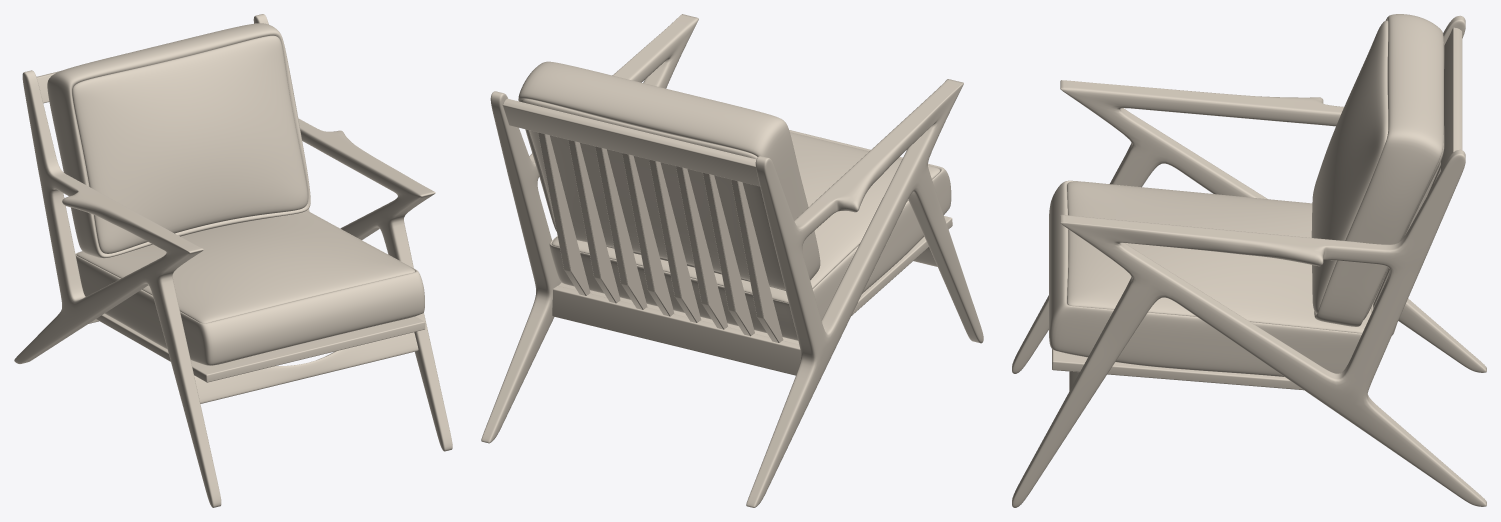
Rendered from chair1_lightbrown.glb.
3 renders of one model, left to right at view 1: azimuth 30°, elevation 25°; view 2: azimuth 150°, elevation 25°; view 3: azimuth 270°, elevation 25°, orthographic. The views are drawn at different scales.
Parts seen in each view (by area): view 1: Cushions, Legs, Support, Base; view 2: Cushions, Legs, Backside, Support, Base; view 3: Cushions, Legs, Base, Support.
Boxes of the visible parts, box(x1,y1,x2,y2) form: Cushions: box(47, 23, 424, 365); Legs: box(14, 14, 452, 507); Support: box(36, 23, 418, 403); Base: box(96, 313, 425, 382); Cushions: box(518, 61, 951, 340); Legs: box(481, 14, 983, 507); Backside: box(538, 132, 783, 342); Support: box(502, 98, 937, 375); Base: box(558, 216, 952, 344); Cushions: box(1049, 14, 1444, 376); Legs: box(1012, 15, 1486, 507); Base: box(1052, 349, 1303, 390); Support: box(1069, 27, 1462, 390).
Bounding box in the file's own units: 1.8 × 1.9 × 2.22.
